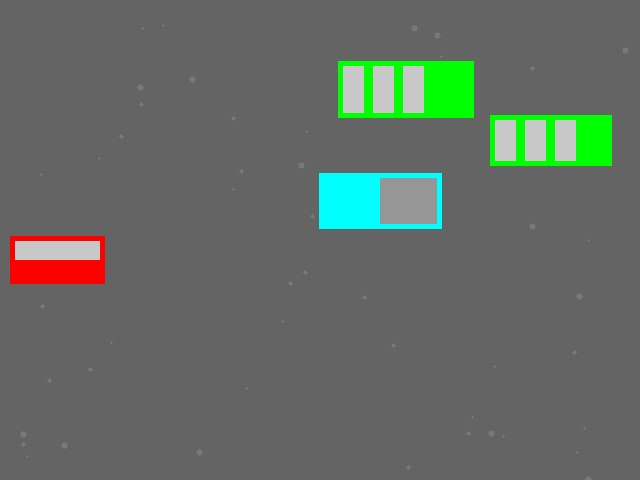bus: (338, 61, 473, 117), (490, 115, 611, 165)
car: (10, 236, 104, 283)
truck: (319, 173, 441, 228)
